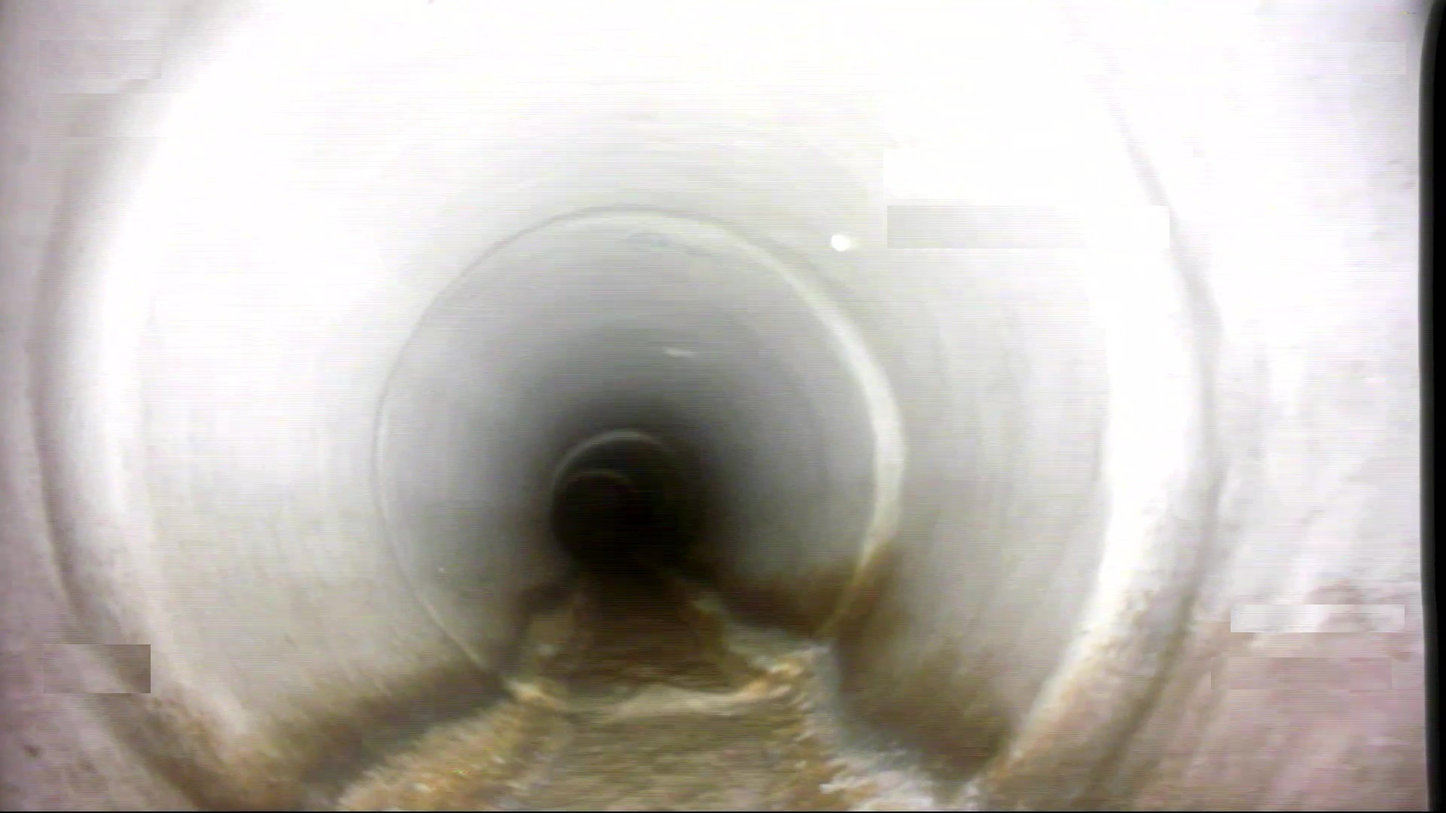circle1: (360, 202, 917, 727)
circle2: (548, 470, 648, 578)
